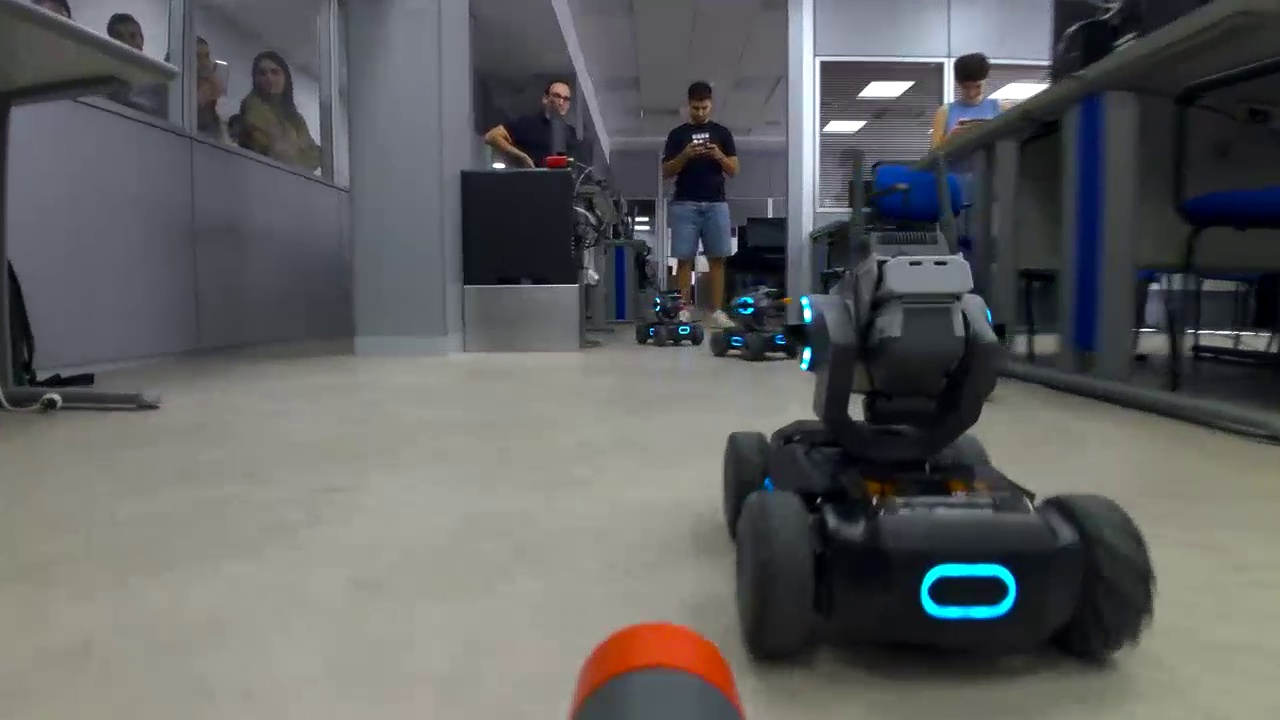robot: (714, 216, 1171, 679), (708, 285, 807, 363), (632, 286, 707, 353)
